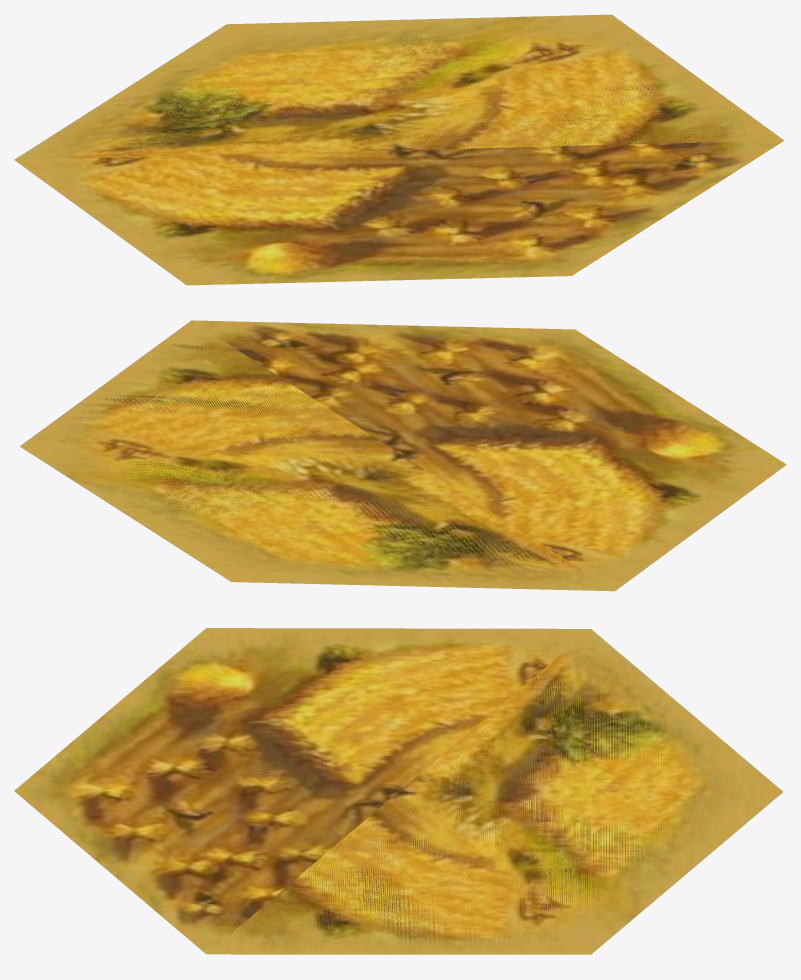
The model's file is Grain Resource.fbx.
3 views of the same model, one above another, from view 1: azimuth 30°, elevation 25°; view 2: azimuth 150°, elevation 25°; view 3: azimuth 270°, elevation 25° (orthographic). The views are drawn at different scales.
Parts seen in each view (by area): view 1: Lightless; view 2: Lightless; view 3: Lightless.
Boxes of the visible parts, x1,y1,x2,y2 form: Lightless: (14, 14, 784, 285); Lightless: (20, 320, 786, 591); Lightless: (14, 628, 782, 954).
Bounding box in the file's own units: 201 × 3 × 201.
1 material, 1 textured.
